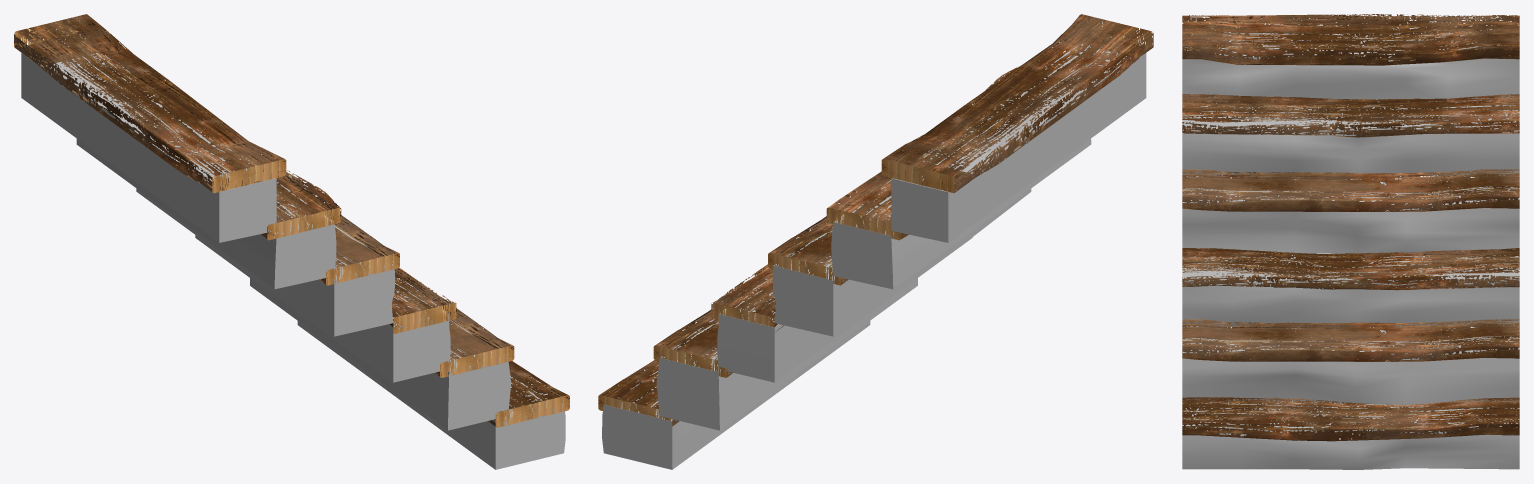
The picture shows the model from 3 angles, left to right: view 1: azimuth 30°, elevation 25°; view 2: azimuth 150°, elevation 25°; view 3: azimuth 270°, elevation 25°; orthographic projection. The views are drawn at different scales.
Parts seen in each view (by area): view 1: SM_BB_T4_Stairs_LOD0; view 2: SM_BB_T4_Stairs_LOD0; view 3: SM_BB_T4_Stairs_LOD0.
Part boxes in pixels (box(x1,y1,x2,y2)): SM_BB_T4_Stairs_LOD0: box(14, 14, 569, 469); SM_BB_T4_Stairs_LOD0: box(598, 14, 1153, 469); SM_BB_T4_Stairs_LOD0: box(1182, 14, 1519, 469).
Bounding box in the file's own units: 1.57 × 1.52 × 1.5.
